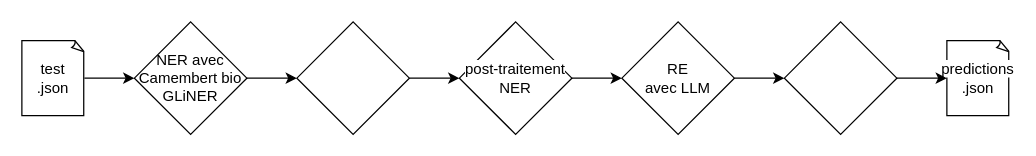
This 1036x156 diagram has some shape labels left out. The shapes that lost their labels are listed below. From the top down, each one's box as (x1, y1, x2, y2) in pixels, then its label:
(296, 21, 409, 134): Classification fine avec LLM
(783, 21, 897, 134): post-traitement RE
